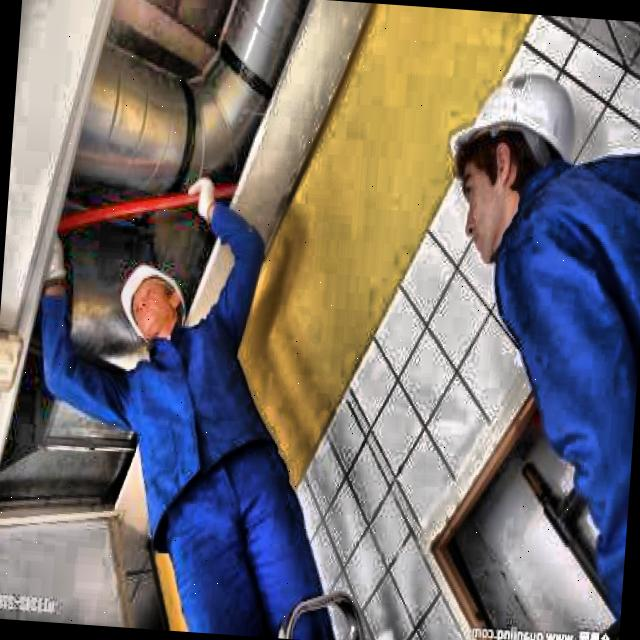helmet: (429, 58, 592, 270), (108, 252, 196, 358)
